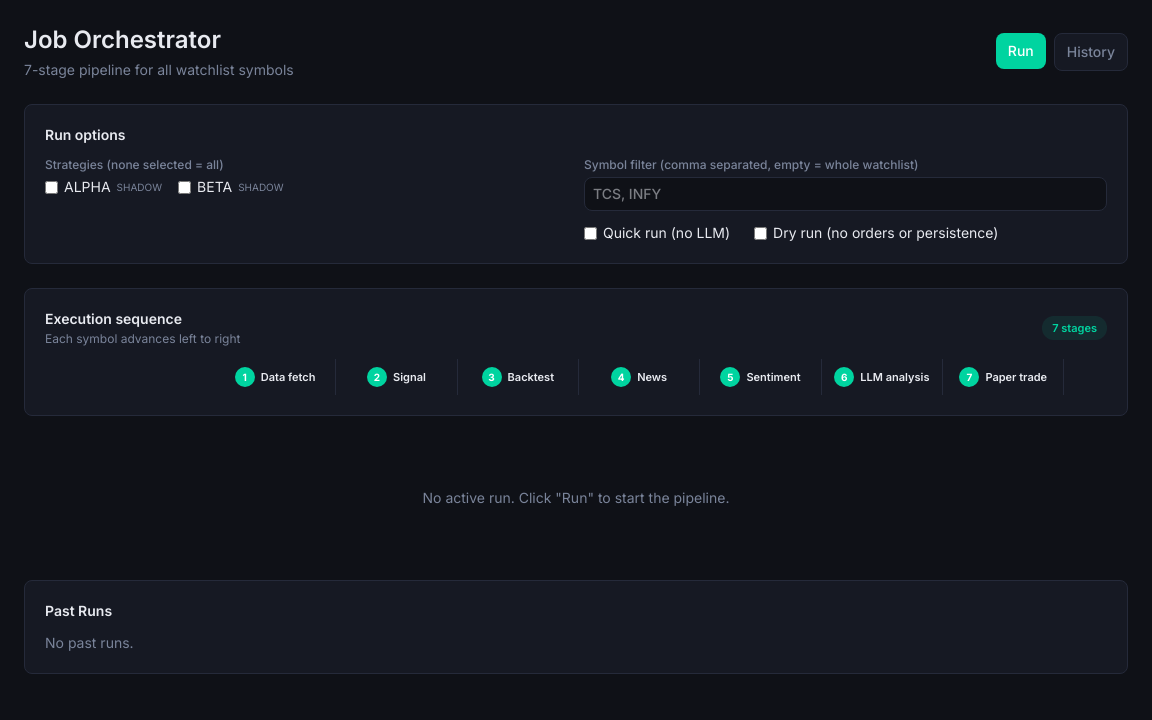
Test: OrchestratorView start panel › shows the server message for 400 unknown symbols/variants as an alert
Click the button with aria-label "Run job orchestrator": (1021, 51) [996,33,1046,69]
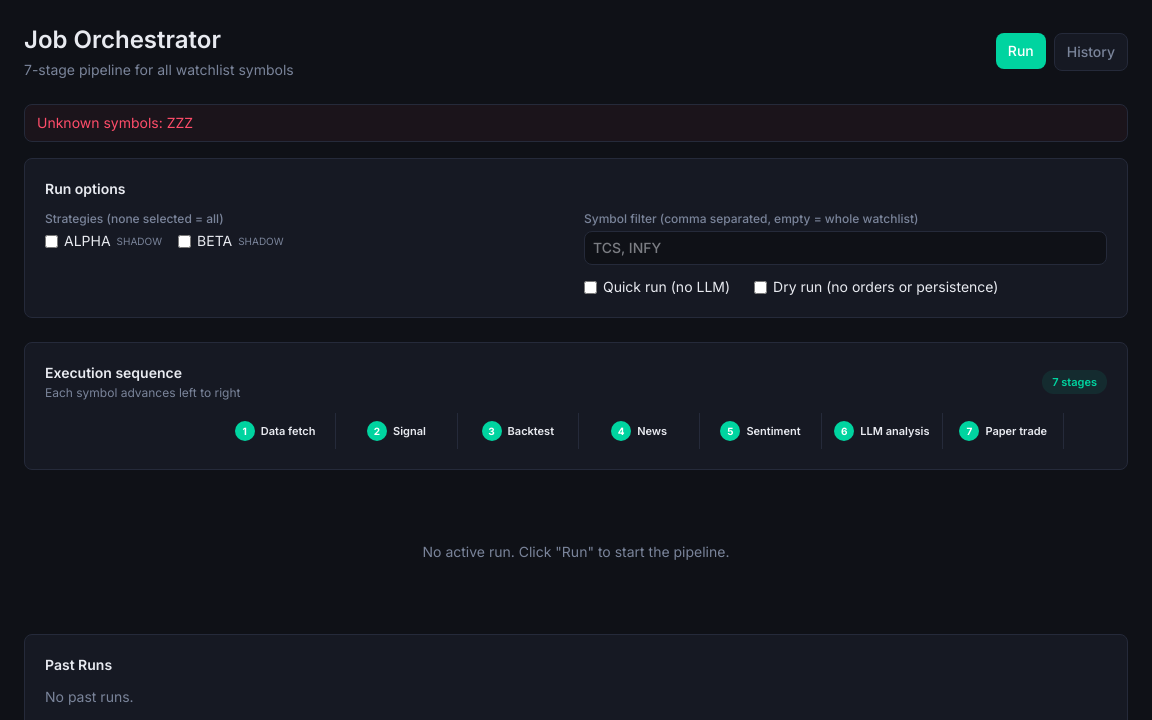
Expected: the message "Unknown symbols: ZZZ" is shown, [24,104,1128,142]
